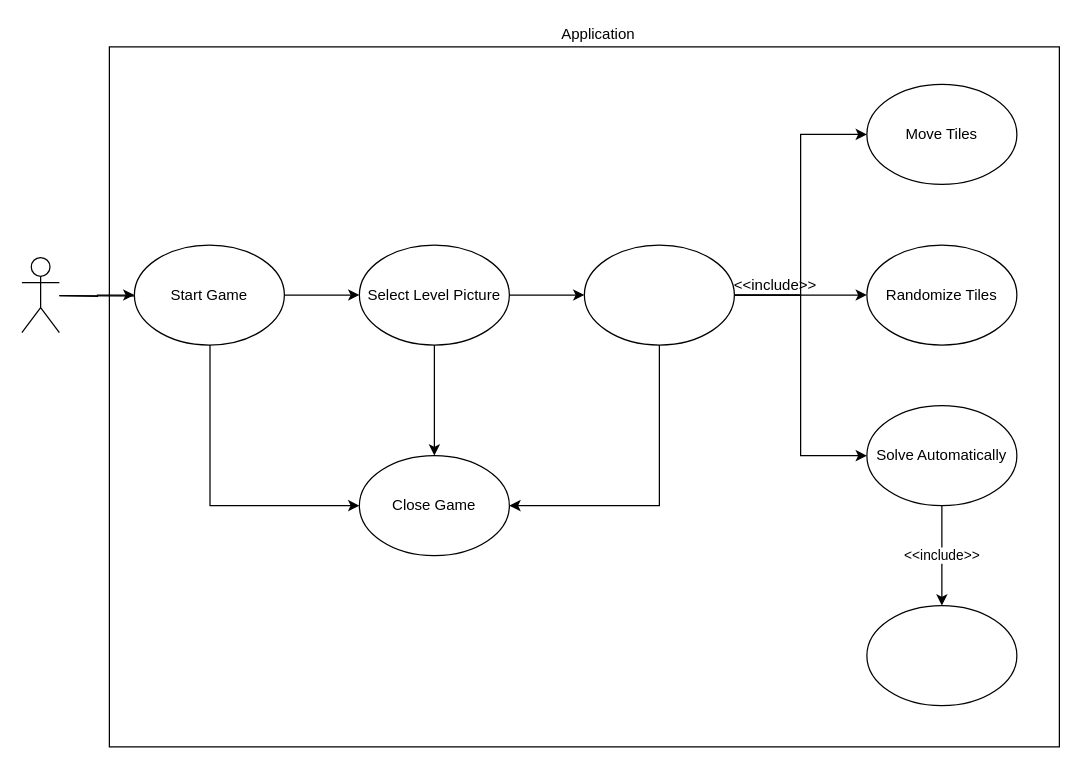
Image size: 1081x769. Some labels were removed from this diagram. The centre of each missing label's shape, as x and y in pixels:
"Actor" goes at [40,294].
"Change Speed" goes at [941,655].
"Gameplay" goes at [658,294].
